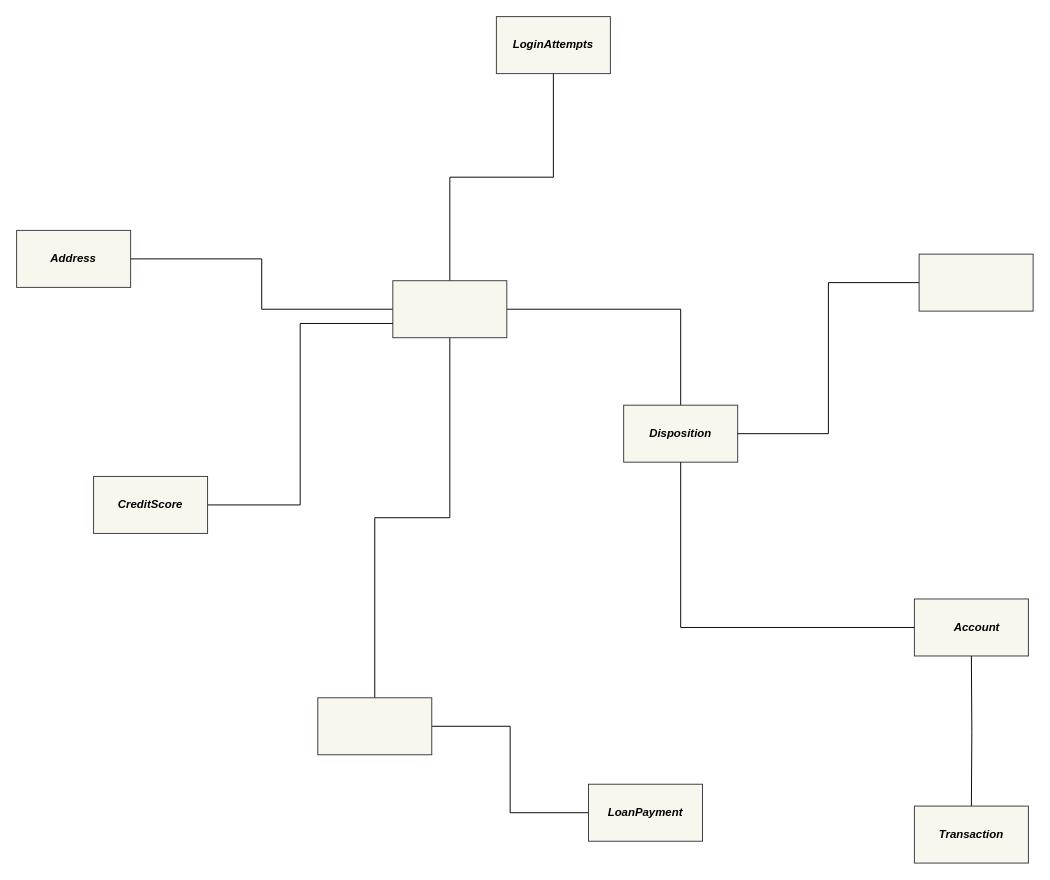
Some shapes in this 1050 by 880 pixel diagram are drawn without their labels. The shapes that lost their labels are listed below. From the top down, each one's centre as x and y in pixels, then its label:
At point (975, 282): "Crad".
At point (449, 309): "Customer".
At point (374, 726): "Loan".
